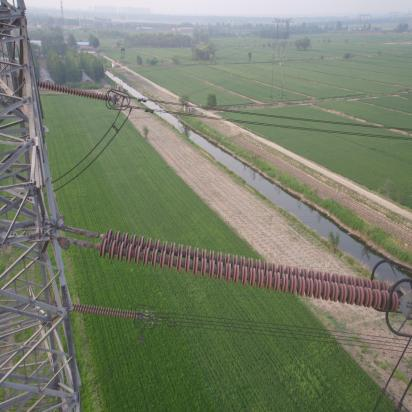insulator: (82, 226, 407, 316), (39, 82, 115, 103), (74, 304, 143, 321)
